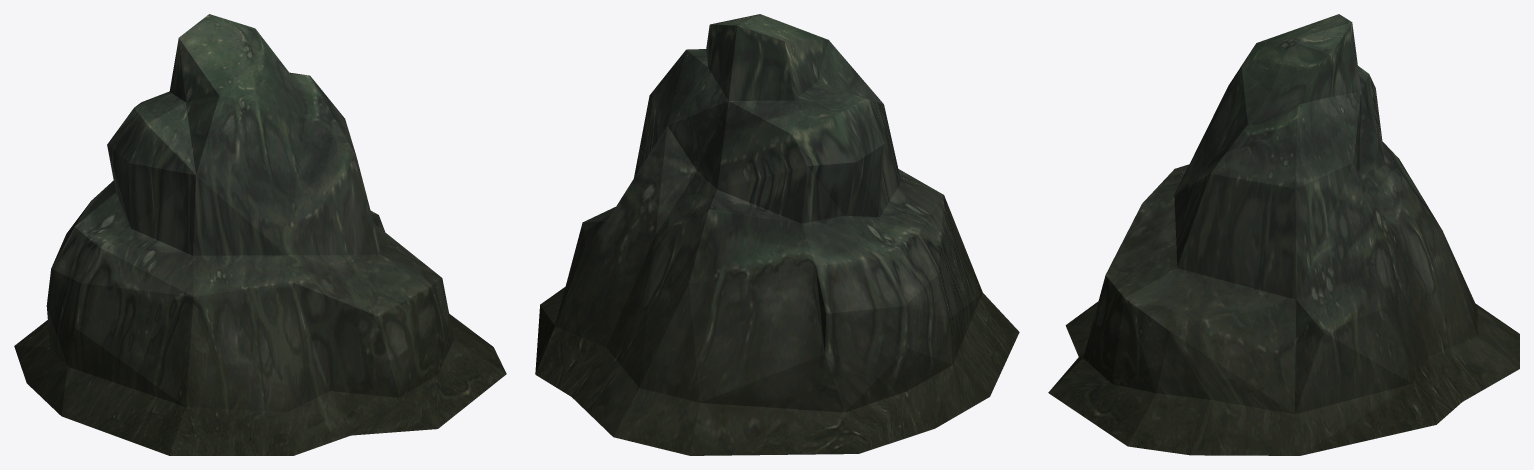
The model's file is stemple_footer_01.fbx.
3 renders of one model, left to right at view 1: azimuth 30°, elevation 25°; view 2: azimuth 150°, elevation 25°; view 3: azimuth 270°, elevation 25°, orthographic. The views are drawn at different scales.
Visible parts, largest first — view 1: obj0.253; view 2: obj0.253; view 3: obj0.253.
Boxes of the visible parts, x1=… form: obj0.253: x1=14, y1=14, x2=506, y2=455; obj0.253: x1=535, y1=14, x2=1019, y2=455; obj0.253: x1=1048, y1=14, x2=1519, y2=455.
Size of the model in its own units: 8.65 by 6.78 by 8.75.
